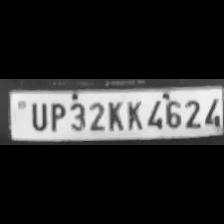2: (182, 96, 202, 130), (86, 99, 106, 131)
3: (67, 99, 85, 131)
4: (144, 97, 162, 129), (202, 96, 220, 128)
6: (164, 97, 181, 129)
K: (105, 98, 123, 132), (124, 98, 142, 132)
P: (47, 100, 65, 132)
U: (27, 99, 47, 130)
